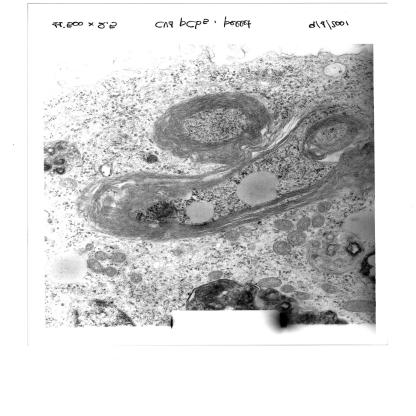mitochondria: (286, 230, 308, 247), (272, 240, 292, 257), (272, 218, 295, 232), (258, 276, 283, 288), (84, 259, 104, 273), (108, 252, 128, 265), (295, 216, 312, 231), (318, 282, 338, 294), (223, 229, 240, 243), (206, 268, 223, 281), (311, 214, 326, 228), (315, 201, 332, 213), (290, 291, 312, 300), (127, 272, 143, 284), (95, 249, 110, 261), (104, 266, 118, 278), (170, 247, 184, 258), (280, 283, 295, 293), (84, 242, 96, 252)
